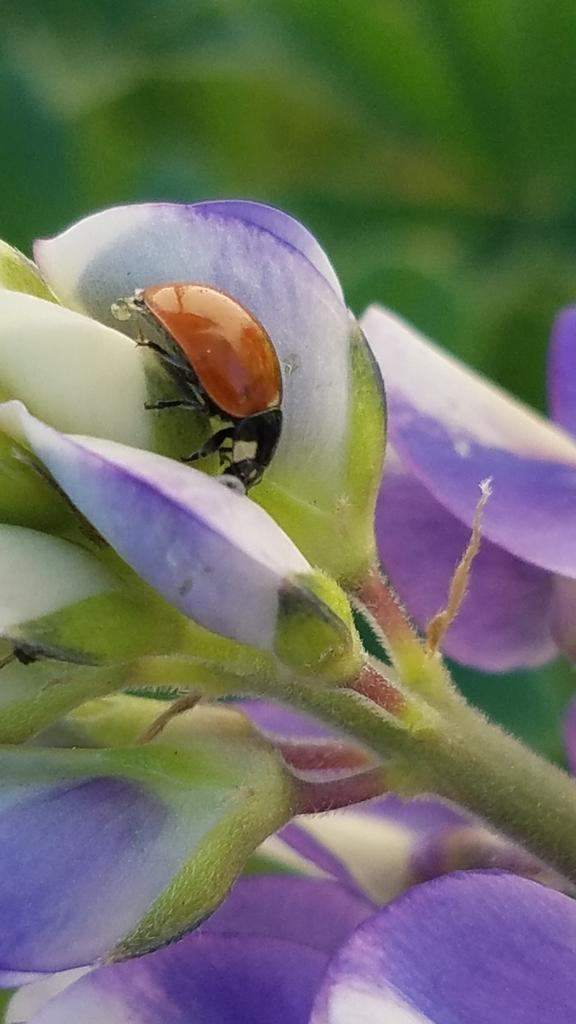ladybug: (109, 279, 291, 501)
